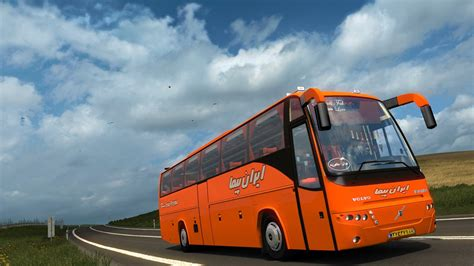bus: (158, 89, 434, 260)
